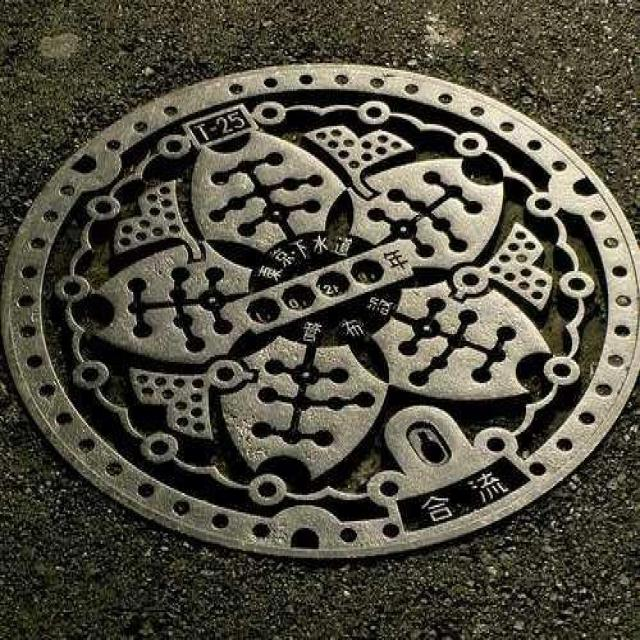manhole: (2, 65, 640, 558)
